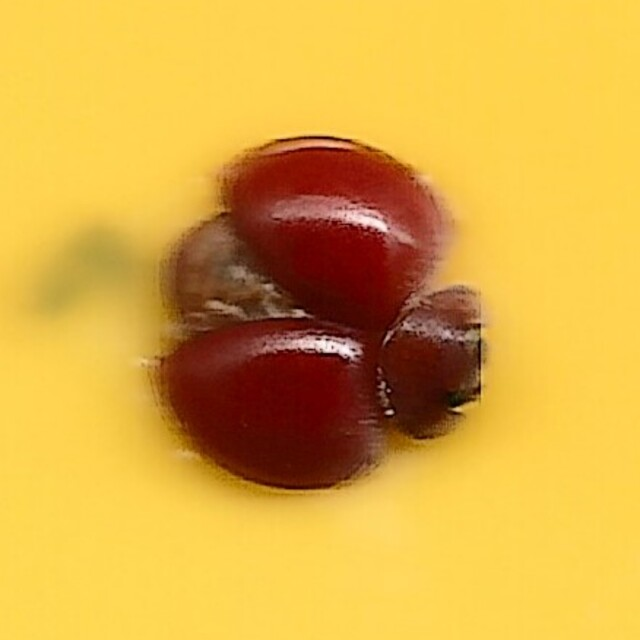Coleoptera: (146, 141, 494, 499)
